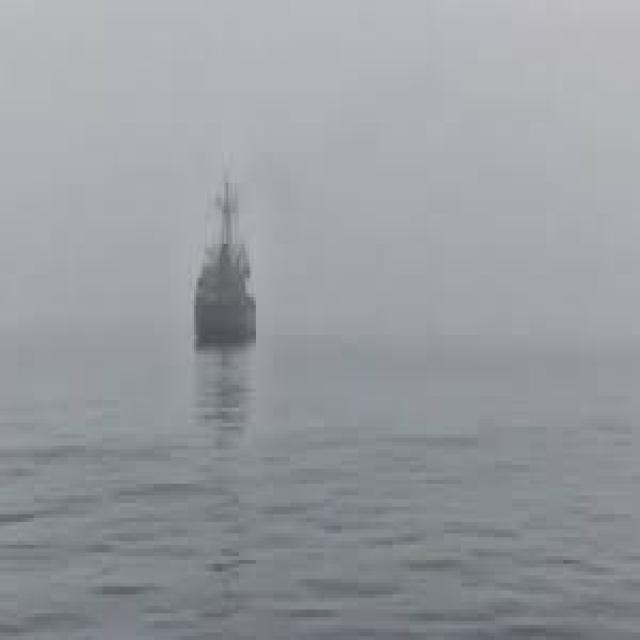navalvessels: (184, 184, 270, 370)
